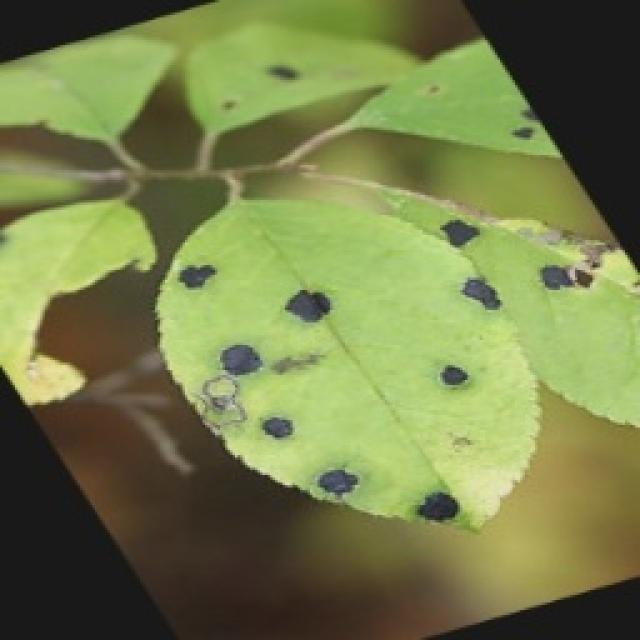Tar_Spot: (150, 183, 638, 535)
